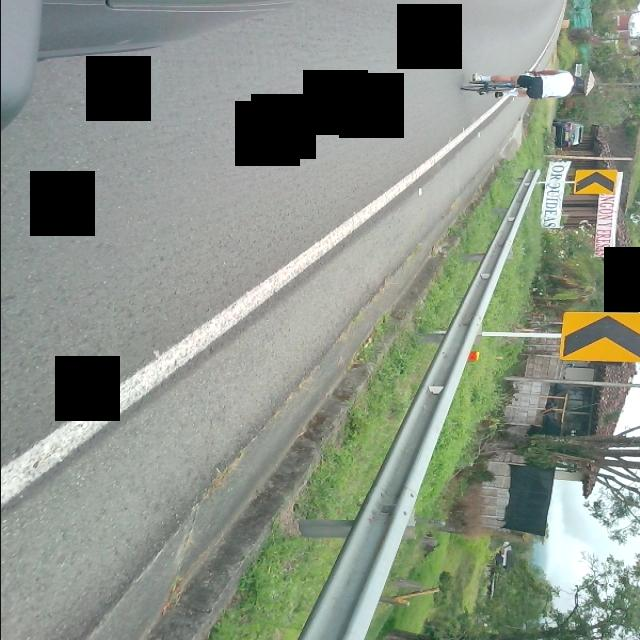DITCH: (2, 2, 568, 638)
